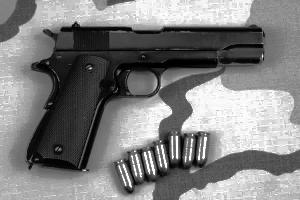handgun: (22, 17, 272, 174)
